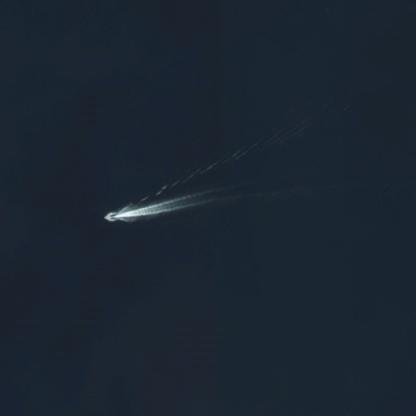ship: (98, 206, 124, 228)
